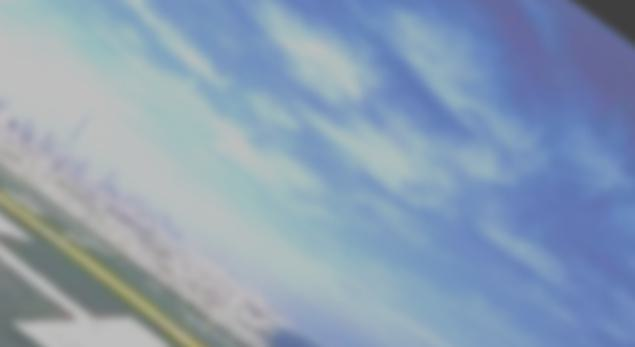Apron: (1, 187, 212, 347)
